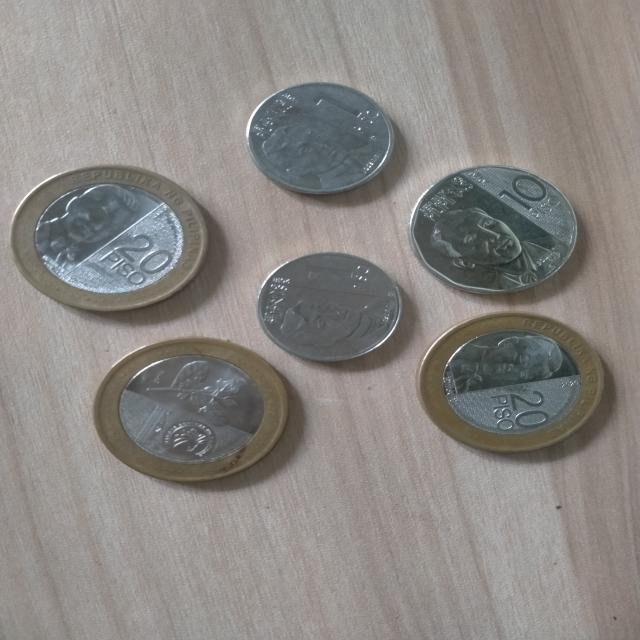10_New_Front: (498, 170, 566, 223)
1_New_Front: (299, 92, 378, 132)
20_New_Front: (91, 225, 180, 295), (482, 379, 562, 436)
